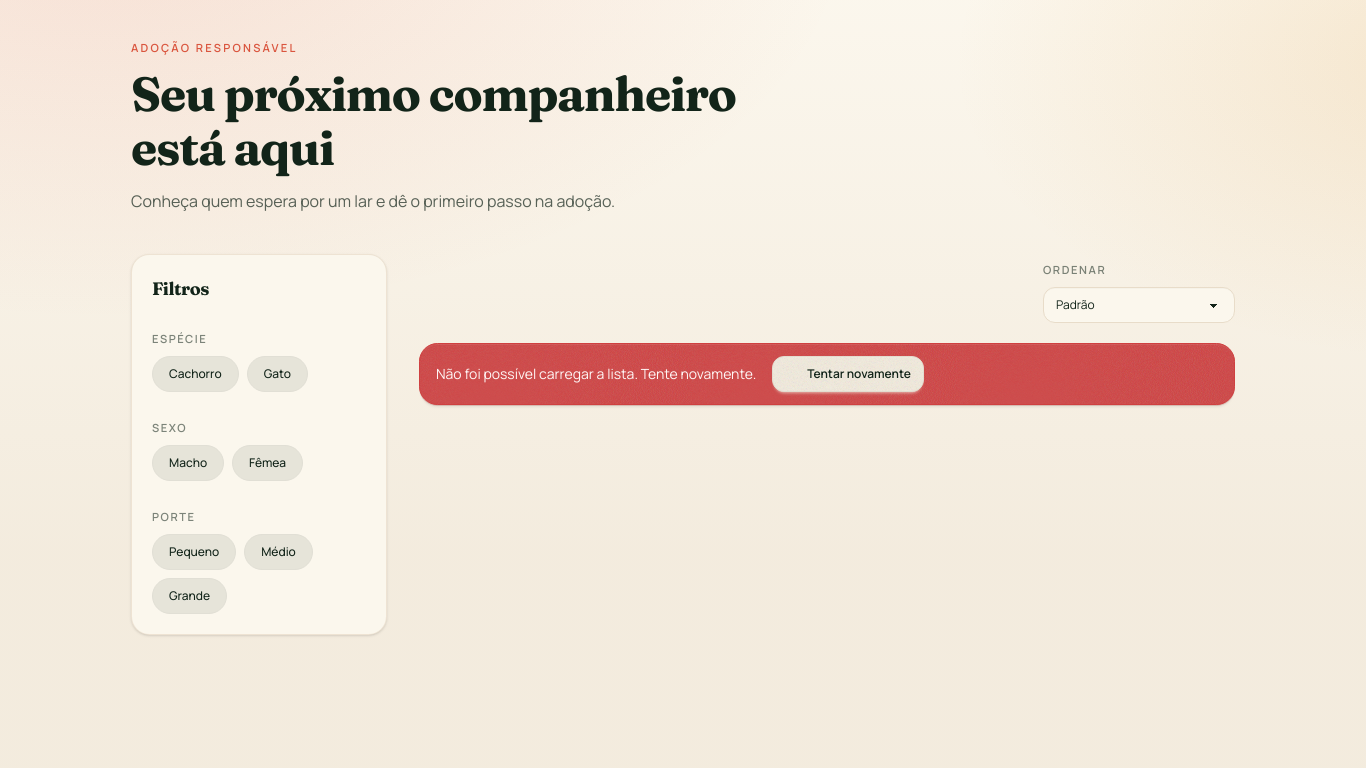
HomePage › retries the catalog after a failure
Click the button "Tentar novamente": (848, 374) top-left (772, 356), bottom-right (924, 392)
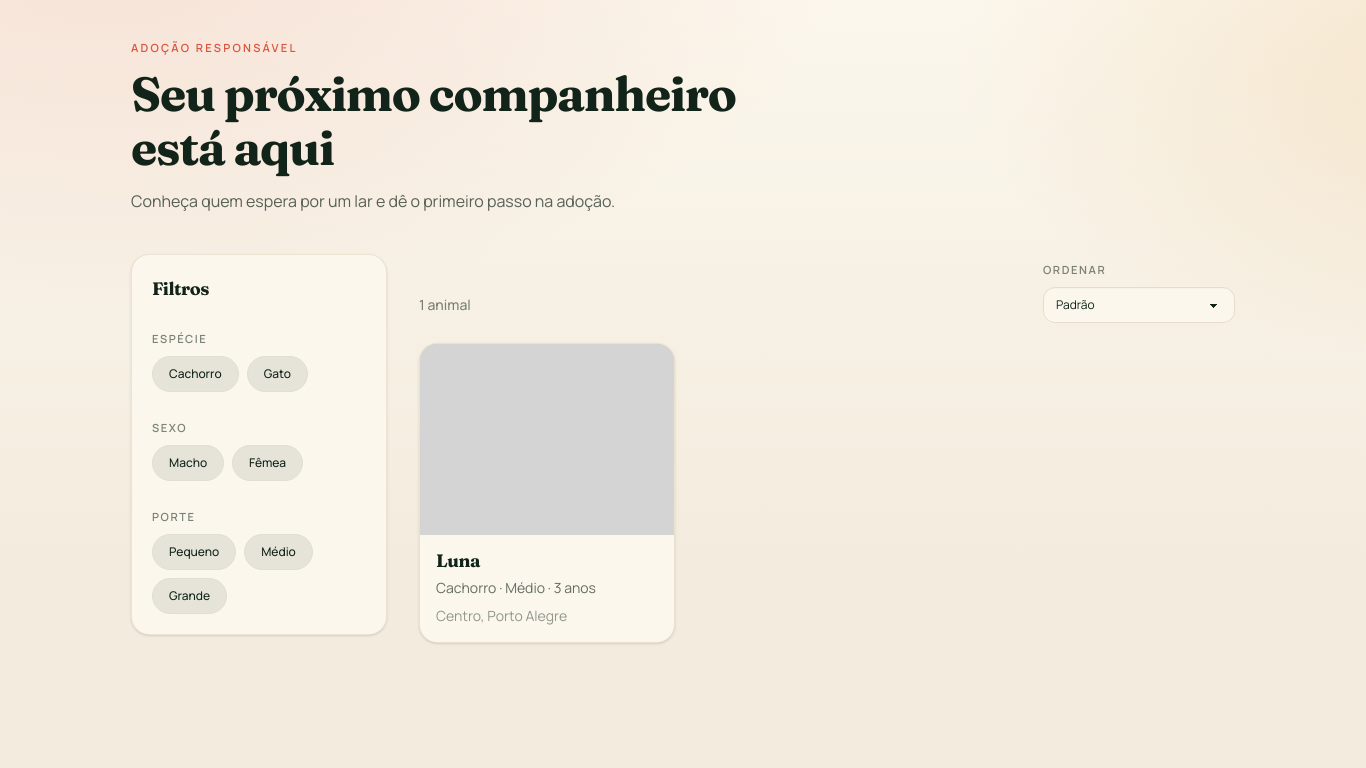
Result: the text "Luna" is shown at top-left (436, 549), bottom-right (480, 572)
